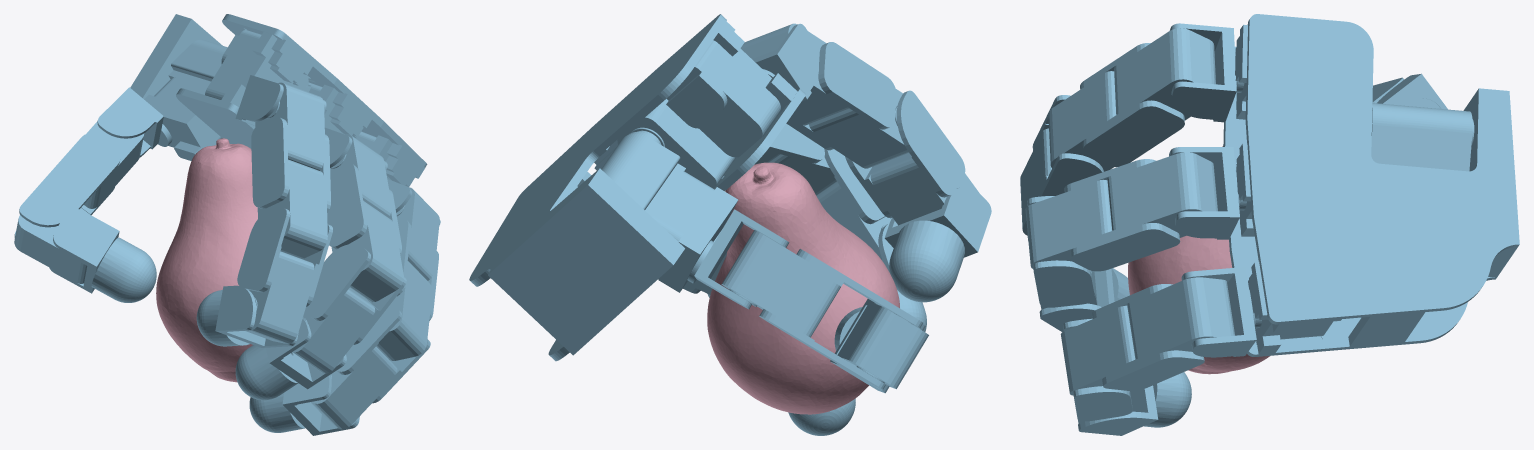
3 views of the same model, side by side, from view 1: azimuth 30°, elevation 25°; view 2: azimuth 150°, elevation 25°; view 3: azimuth 270°, elevation 25° (orthographic). The views are drawn at different scales.
Parts seen in each view (by area): view 1: world; view 2: world; view 3: world.
Boxes of the visible parts, x1,y1,x2,y2 form: world: (14,14,440,435); world: (469,14,991,435); world: (1020,14,1519,435).
Size of the model in its own units: 0.1807 by 0.1684 by 0.1755.
